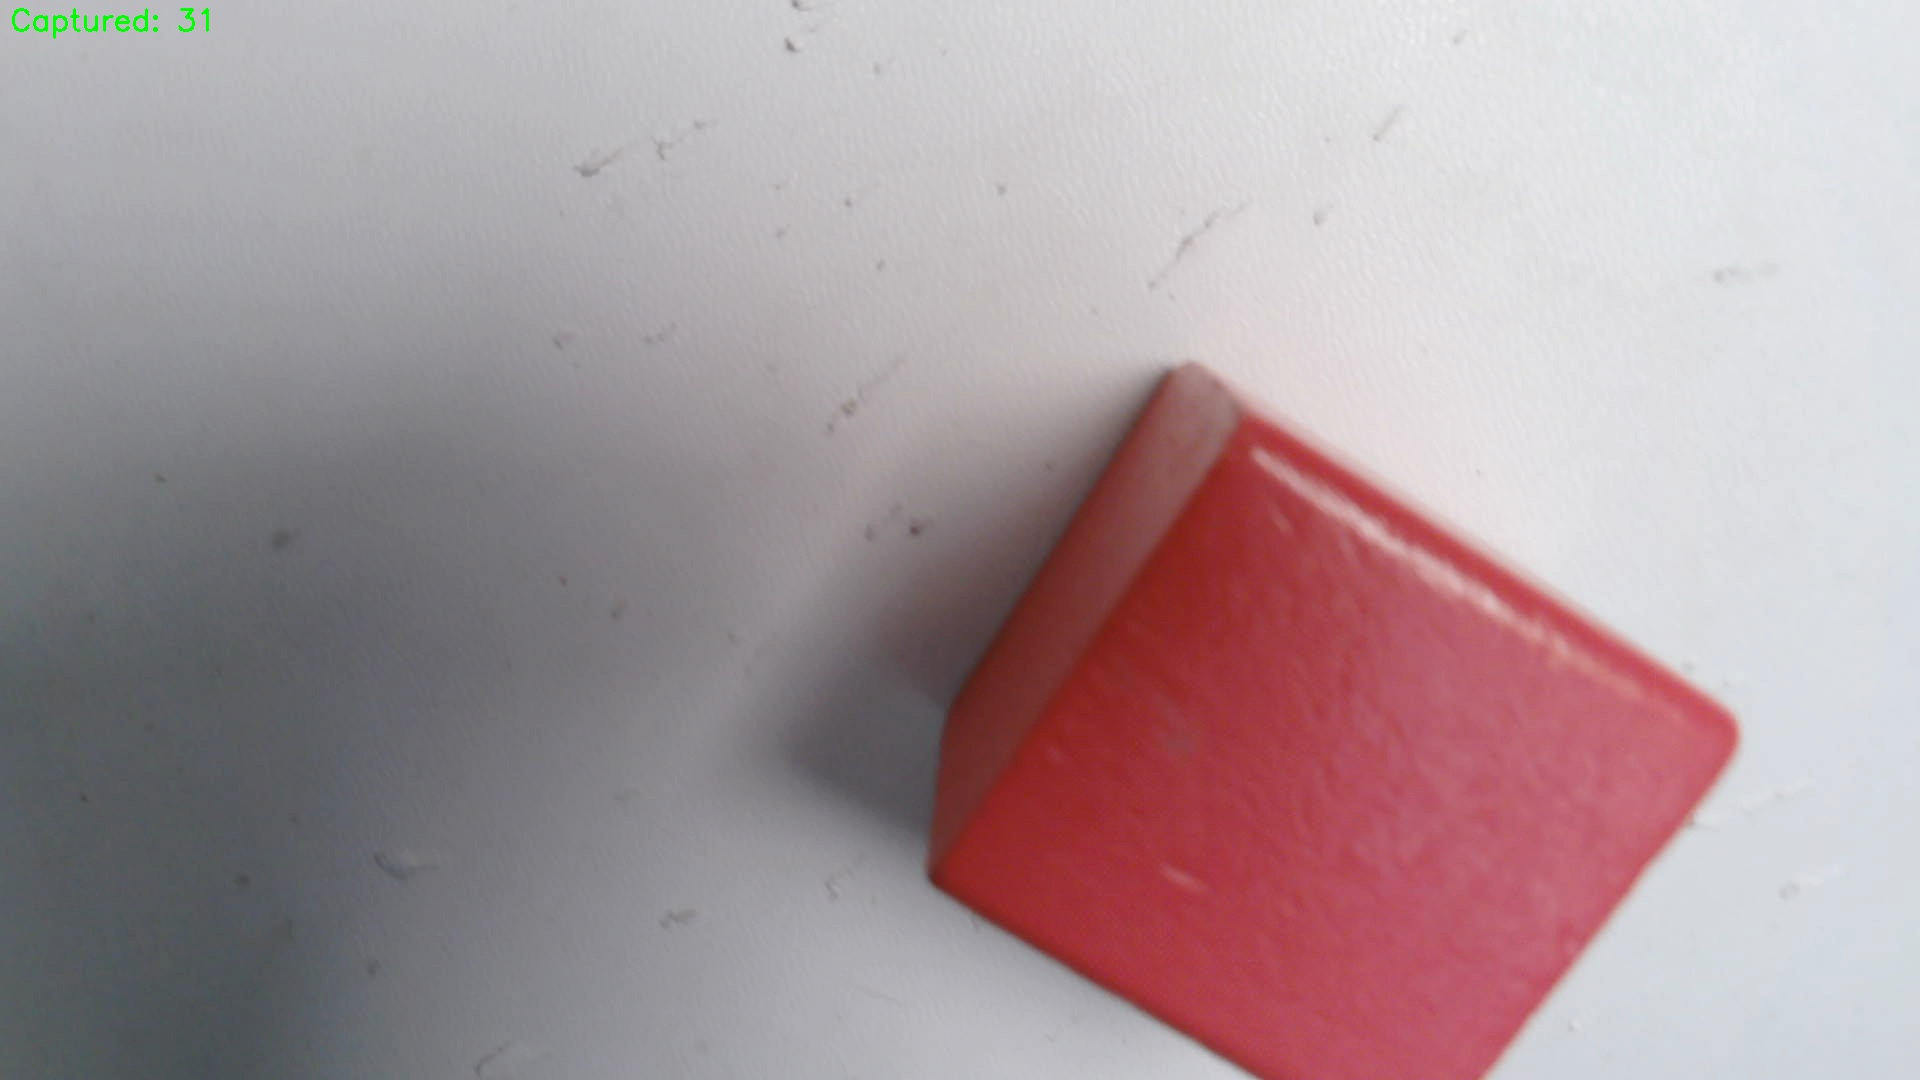red: (932, 368, 1741, 1080)
